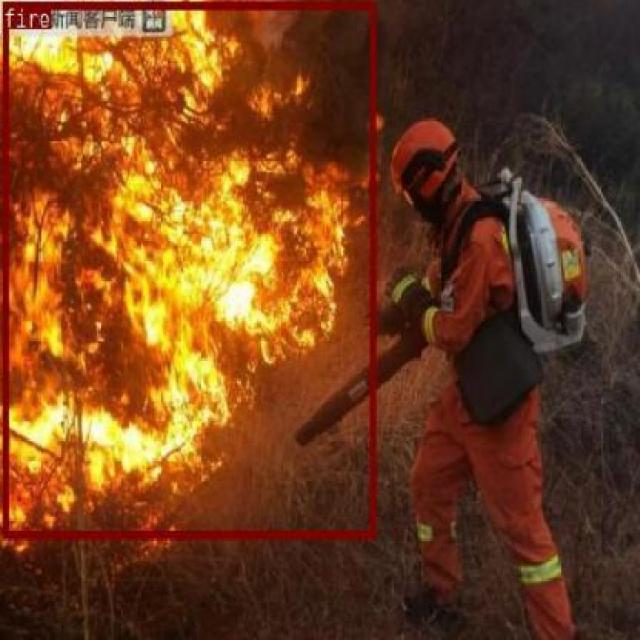Fire: (1, 0, 374, 538)
